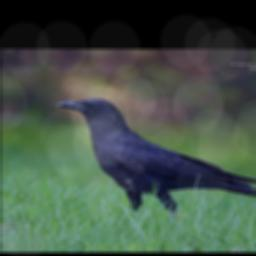Crow: (51, 96, 256, 225)
